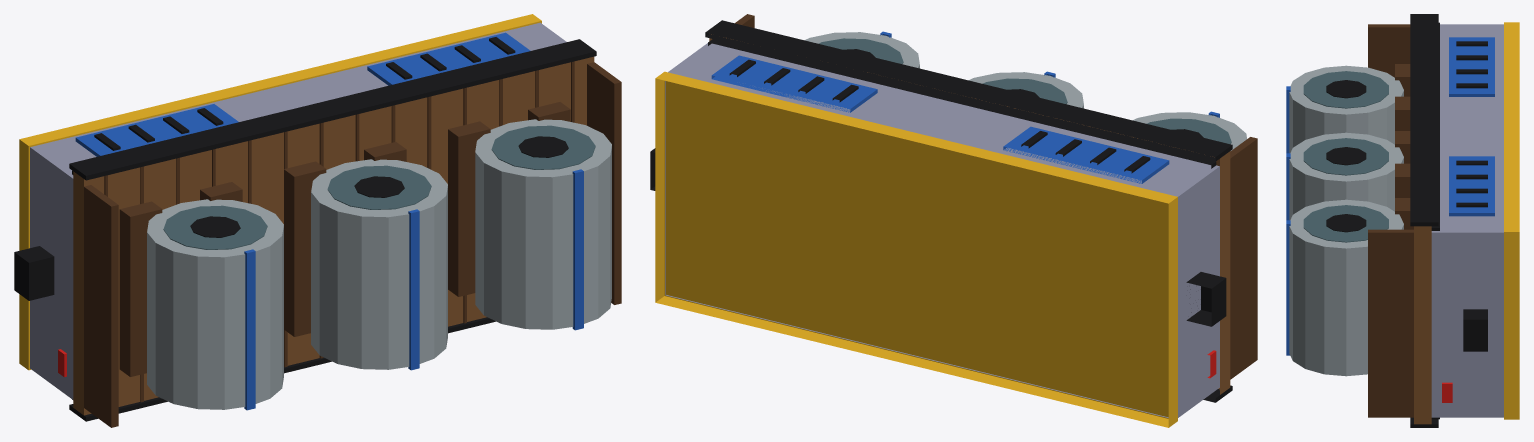
Rendered from loaded.glb.
The picture shows the model from 3 angles, left to right: view 1: azimuth 30°, elevation 25°; view 2: azimuth 150°, elevation 25°; view 3: azimuth 270°, elevation 25°; orthographic projection. The views are drawn at different scales.
Visible parts, largest first — view 1: loaded_deck, loaded_coil0.0, loaded_coil-2.25, loaded_coil2.25, loaded_base, loaded_side1_-3.50_1.90, loaded_bulkhead-1, loaded_stripe, loaded_chock-2.25-1, loaded_chock2.25-1, loaded_chock0.0-1, loaded_bulkhead1 (+16 smaller); view 2: loaded_stripe, loaded_base, loaded_side1_-3.50_1.90, loaded_bulkhead-1, loaded_pod11, loaded_pod10, loaded_base_lip, loaded_deck, loaded_coupler-1, loaded_coil0.0, loaded_coil2.25, loaded_coil-2.25 (+3 smaller); view 3: loaded_base, loaded_coil2.25, loaded_bulkhead1, loaded_stripe, loaded_side1_-3.50_1.90, loaded_coil-2.25, loaded_coil0.0, loaded_deck, loaded_pod11, loaded_pod10, loaded_wrap0.01, loaded_wrap-2.251 (+15 smaller).
Boxes of the visible parts, box(x1,y1,x2,y2) form: loaded_deck: box(73, 56, 594, 415); loaded_coil0.0: box(311, 159, 447, 369); loaded_coil-2.25: box(147, 199, 283, 409); loaded_coil2.25: box(475, 119, 611, 329); loaded_base: box(30, 22, 566, 399); loaded_side1_-3.50_1.90: box(69, 39, 596, 180); loaded_bulkhead-1: box(84, 185, 118, 427); loaded_stripe: box(19, 14, 541, 370); loaded_chock-2.25-1: box(119, 201, 162, 376); loaded_chock2.25-1: box(448, 121, 490, 296); loaded_chock0.0-1: box(284, 161, 326, 336); loaded_bulkhead1: box(587, 62, 621, 304); loaded_stripe: box(655, 71, 1177, 427); loaded_base: box(665, 43, 1219, 417); loaded_side1_-3.50_1.90: box(705, 20, 1232, 161); loaded_bulkhead-1: box(1230, 137, 1257, 379); loaded_pod11: box(711, 55, 877, 112); loaded_pod10: box(1003, 126, 1169, 183); loaded_base_lip: box(708, 39, 1216, 393); loaded_deck: box(709, 34, 1230, 394); loaded_coupler-1: box(1186, 272, 1226, 326); loaded_coil0.0: box(969, 72, 1083, 108); loaded_coil2.25: box(805, 32, 919, 68); loaded_coil-2.25: box(1133, 112, 1246, 150); loaded_base: box(1431, 24, 1503, 417); loaded_coil2.25: box(1289, 199, 1403, 376); loaded_bulkhead1: box(1368, 229, 1413, 417); loaded_stripe: box(1504, 22, 1519, 419); loaded_side1_-3.50_1.90: box(1410, 14, 1438, 226); loaded_coil-2.25: box(1289, 65, 1403, 153); loaded_coil0.0: box(1289, 132, 1403, 220); loaded_deck: box(1414, 226, 1431, 424); loaded_pod11: box(1449, 156, 1494, 216); loaded_pod10: box(1449, 37, 1494, 96); loaded_wrap0.01: box(1303, 138, 1388, 175); loaded_wrap-2.251: box(1303, 71, 1388, 108).
Bounding box in the file's own units: 7.7 × 3.22 × 3.31.
